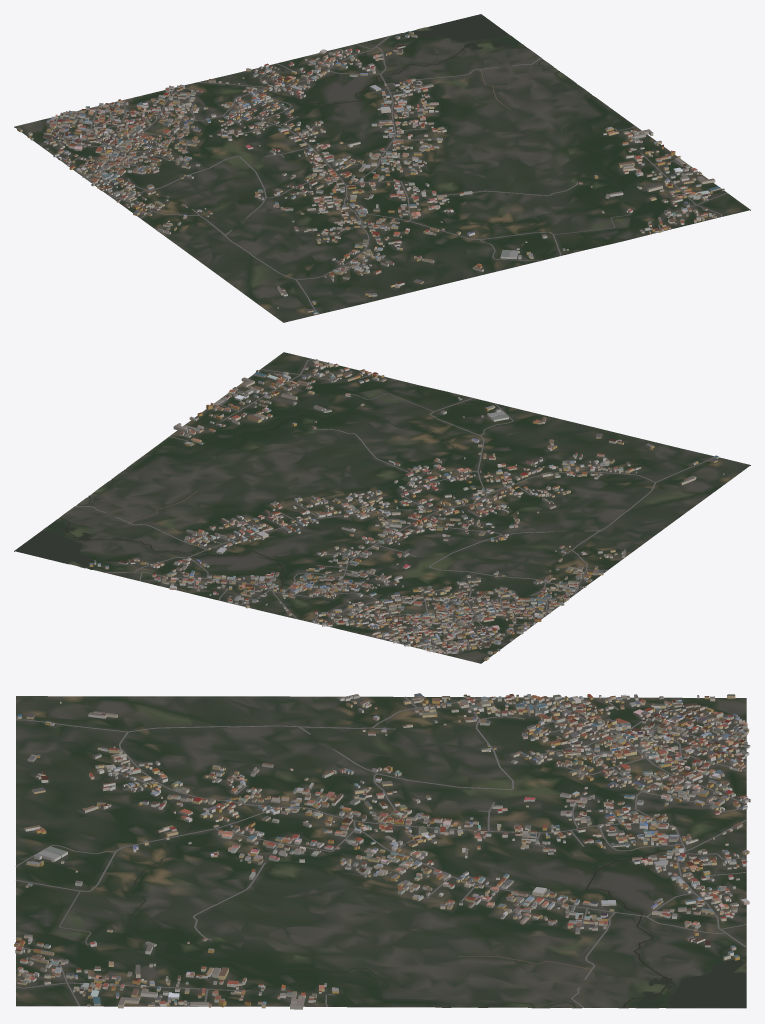
3 renders of one model, top to bottom at view 1: azimuth 30°, elevation 25°; view 2: azimuth 150°, elevation 25°; view 3: azimuth 270°, elevation 25°, orthographic. The views are drawn at different scales.
Parts seen in each view (by area): view 1: ground, buildings, roads, water; view 2: ground, buildings, roads, water; view 3: ground, buildings, roads, water.
Boxes of the visible parts, x1=… form: ground: x1=14, y1=27, x2=750, y2=322; buildings: x1=17, y1=31, x2=724, y2=314; roads: x1=50, y1=35, x2=727, y2=314; water: x1=267, y1=14, x2=620, y2=228; ground: x1=14, y1=352, x2=750, y2=663; buildings: x1=89, y1=359, x2=724, y2=660; roads: x1=74, y1=359, x2=714, y2=654; water: x1=15, y1=410, x2=472, y2=589; ground: x1=16, y1=696, x2=746, y2=1008; buildings: x1=14, y1=693, x2=750, y2=1009; roads: x1=15, y1=696, x2=747, y2=1007; water: x1=125, y1=844, x2=745, y2=1007.
Size of the model in its own units: 1421 by 16.43 by 1414.
